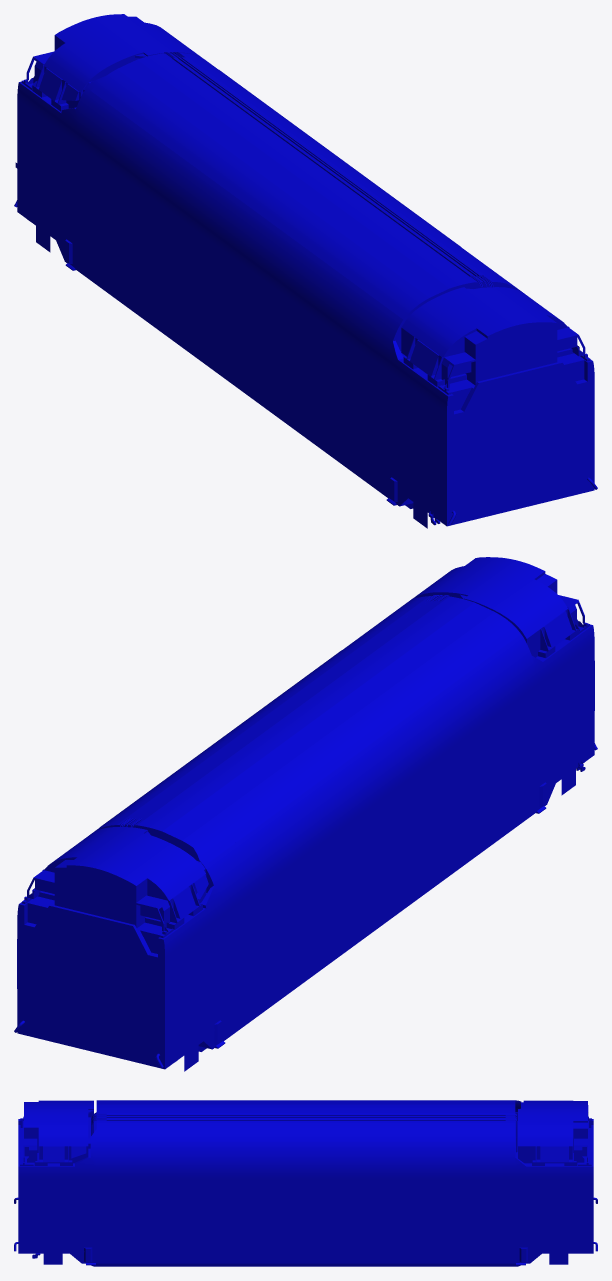
3 renders of one model, top to bottom at view 1: azimuth 30°, elevation 25°; view 2: azimuth 150°, elevation 25°; view 3: azimuth 270°, elevation 25°, orthographic. The views are drawn at different scales.
Visible parts, largest first — view 1: omneo 5.005Regio 2N STIF 8-car; view 2: omneo 5.005Regio 2N STIF 8-car; view 3: omneo 5.005Regio 2N STIF 8-car.
Part boxes in pixels (x1,y1,x2,y2): omneo 5.005Regio 2N STIF 8-car: [14, 14, 597, 528]; omneo 5.005Regio 2N STIF 8-car: [14, 557, 597, 1071]; omneo 5.005Regio 2N STIF 8-car: [14, 1100, 597, 1266].
Bounding box in the file's own units: 3.08 × 4.32 × 15.27.
